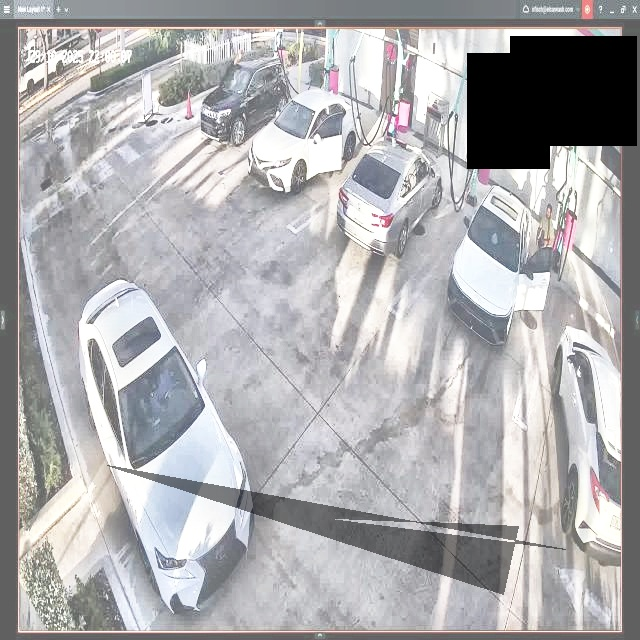Car: (78, 276, 256, 614), (447, 187, 551, 348), (338, 141, 442, 256), (251, 91, 359, 191), (201, 56, 290, 144)
